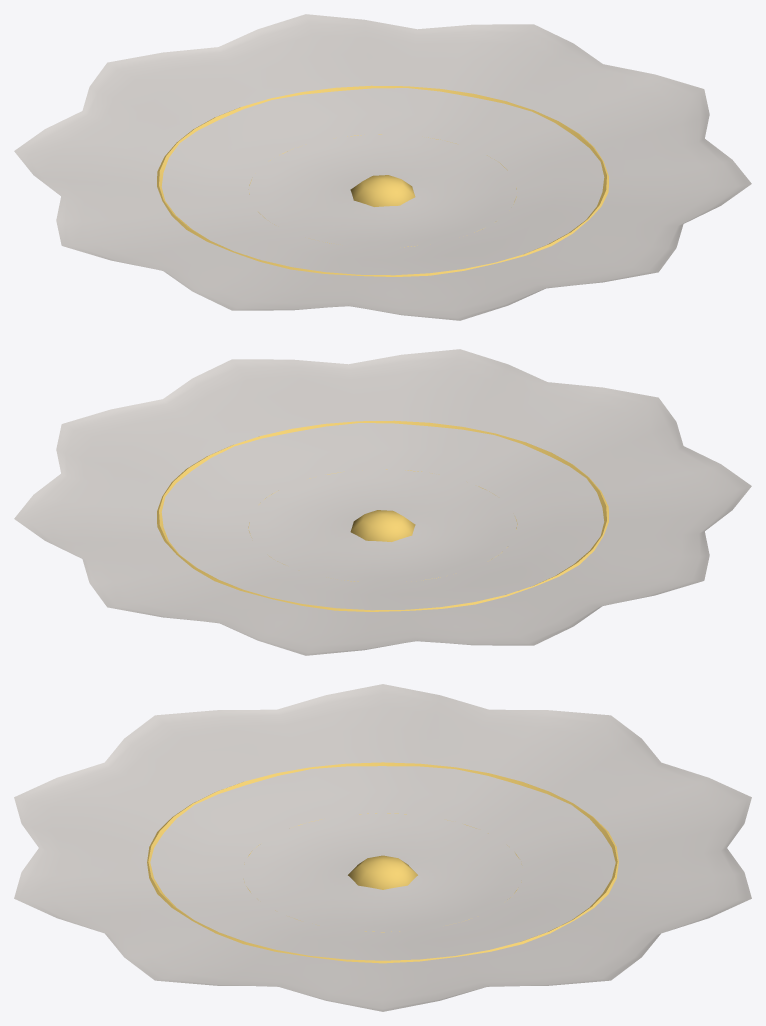
Rendered from ceiling_medallion.glb.
The picture shows the model from 3 angles, top to bottom: view 1: azimuth 30°, elevation 25°; view 2: azimuth 150°, elevation 25°; view 3: azimuth 270°, elevation 25°; orthographic projection. The views are drawn at different scales.
Visible parts, largest first — view 1: ceiling_medallion; view 2: ceiling_medallion; view 3: ceiling_medallion.
Boxes of the visible parts, box(x1,y1,x2,y2) form: ceiling_medallion: box(14, 14, 751, 320); ceiling_medallion: box(14, 349, 751, 655); ceiling_medallion: box(14, 684, 751, 1011).
Bounding box in the file's own units: 1.65 × 0.13 × 1.57.
